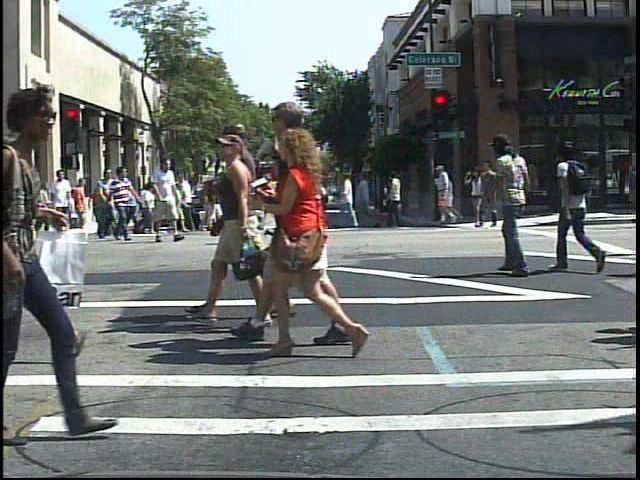person: (244, 91, 367, 345), (1, 75, 79, 450), (263, 118, 375, 357), (549, 131, 613, 279), (23, 119, 57, 371), (488, 126, 543, 281), (148, 158, 187, 246), (107, 161, 136, 243), (47, 166, 77, 245), (92, 164, 119, 242), (434, 160, 459, 225), (24, 183, 48, 244), (90, 183, 110, 221)
